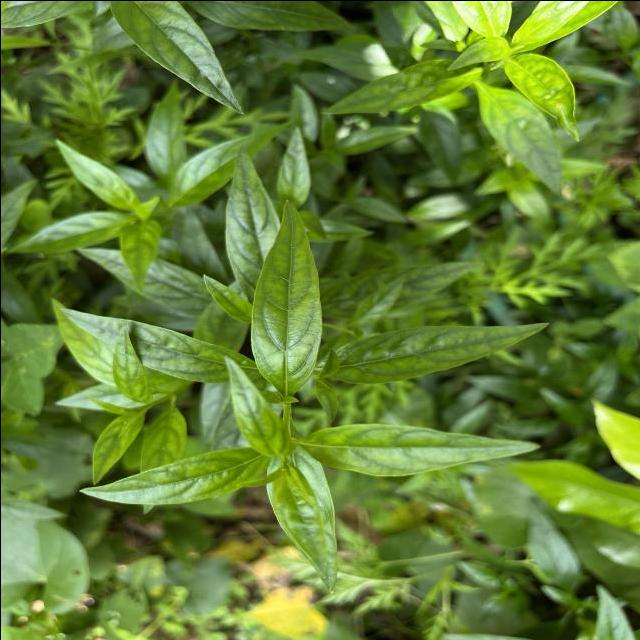Andrographis paniculata: (106, 0, 247, 116), (247, 196, 323, 398), (58, 304, 244, 386), (329, 318, 551, 386), (295, 421, 543, 479), (165, 115, 298, 208), (76, 444, 263, 506), (263, 448, 340, 594), (322, 54, 484, 117), (220, 353, 282, 453), (2, 206, 124, 254), (88, 408, 146, 484), (116, 215, 164, 297)
